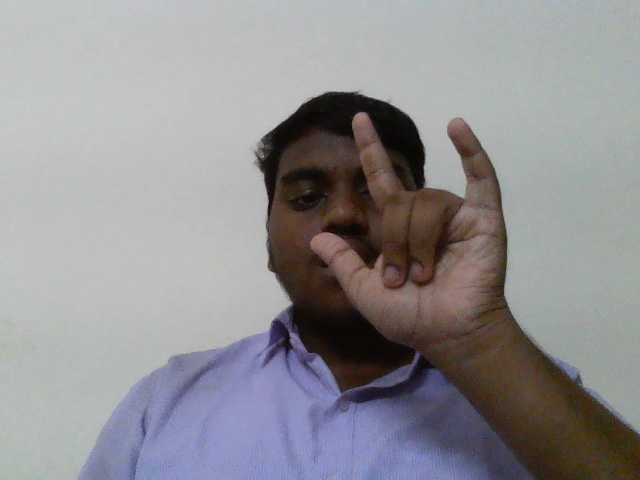I love you: (309, 104, 546, 351)
